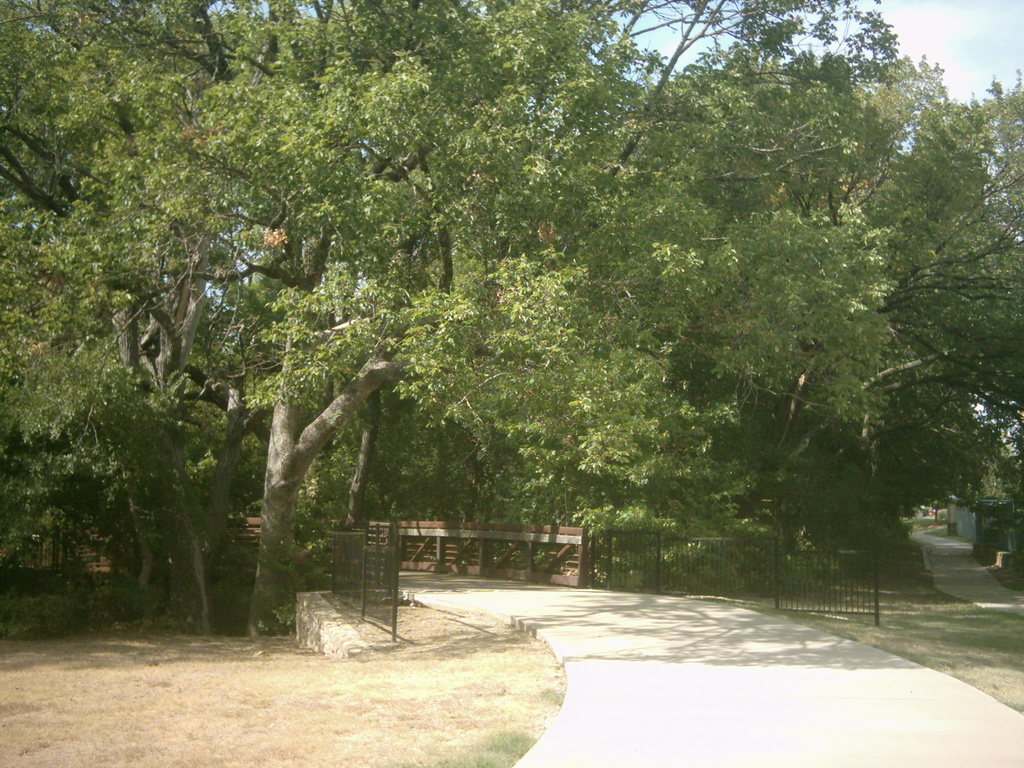Tree: (0, 0, 1023, 630)
